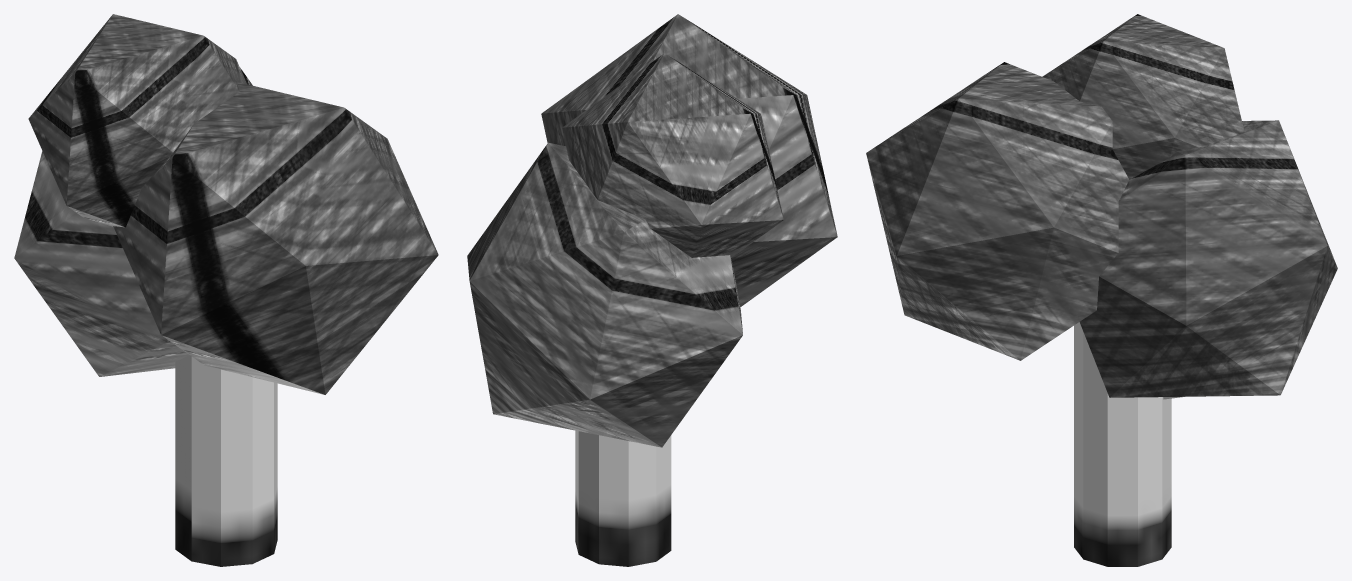
The model's file is tree3.fbx.
3 views of the same model, side by side, from view 1: azimuth 30°, elevation 25°; view 2: azimuth 150°, elevation 25°; view 3: azimuth 270°, elevation 25° (orthographic). The views are drawn at different scales.
Parts seen in each view (by area): view 1: tree3; view 2: tree3; view 3: tree3.
Part boxes in pixels (<box>): tree3: <box>14,14,438,566</box>; tree3: <box>467,14,837,566</box>; tree3: <box>866,14,1337,566</box>.
Bounding box in the file's own units: 668 × 1110 × 967.
